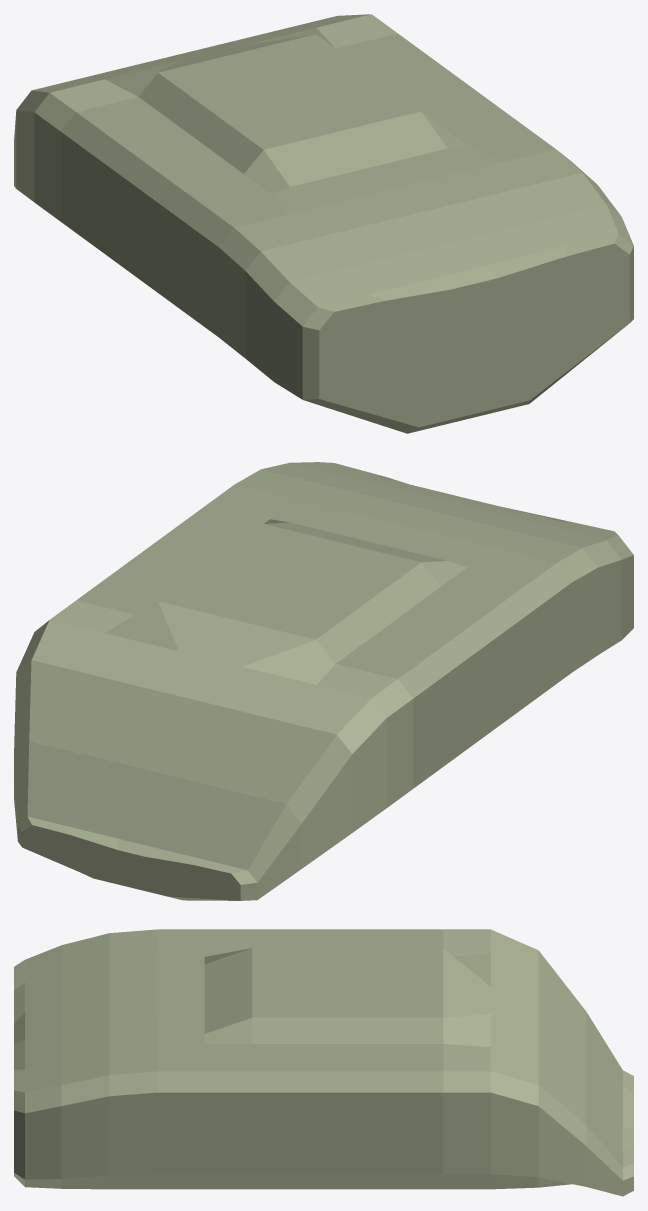
File: hartmann_medium_a.glb
The picture shows the model from 3 angles, top to bottom: view 1: azimuth 30°, elevation 25°; view 2: azimuth 150°, elevation 25°; view 3: azimuth 270°, elevation 25°; orthographic projection. The views are drawn at different scales.
Visible parts, largest first — view 1: hartmann_medium_a; view 2: hartmann_medium_a; view 3: hartmann_medium_a.
Boxes of the visible parts, <box> form: hartmann_medium_a: <box>14,14,633,433</box>; hartmann_medium_a: <box>14,462,633,900</box>; hartmann_medium_a: <box>14,929,633,1196</box>.
Size of the model in its own units: 3.5 by 1.86 by 5.9.
